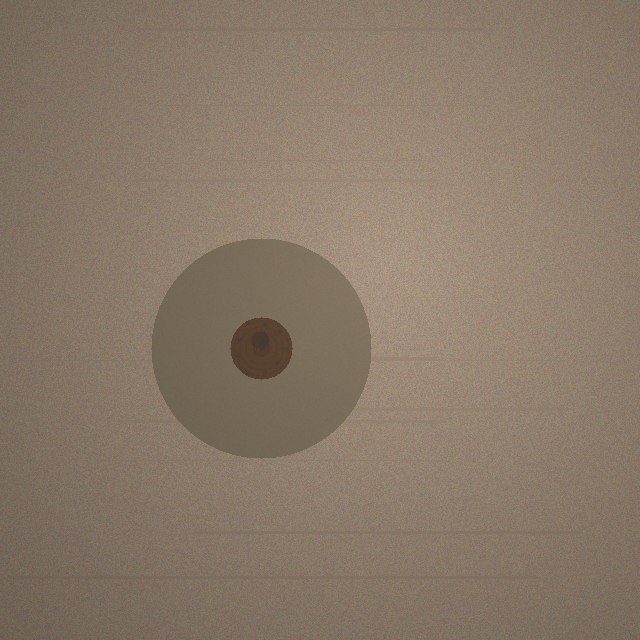cold_weld: (151, 238, 371, 458)
